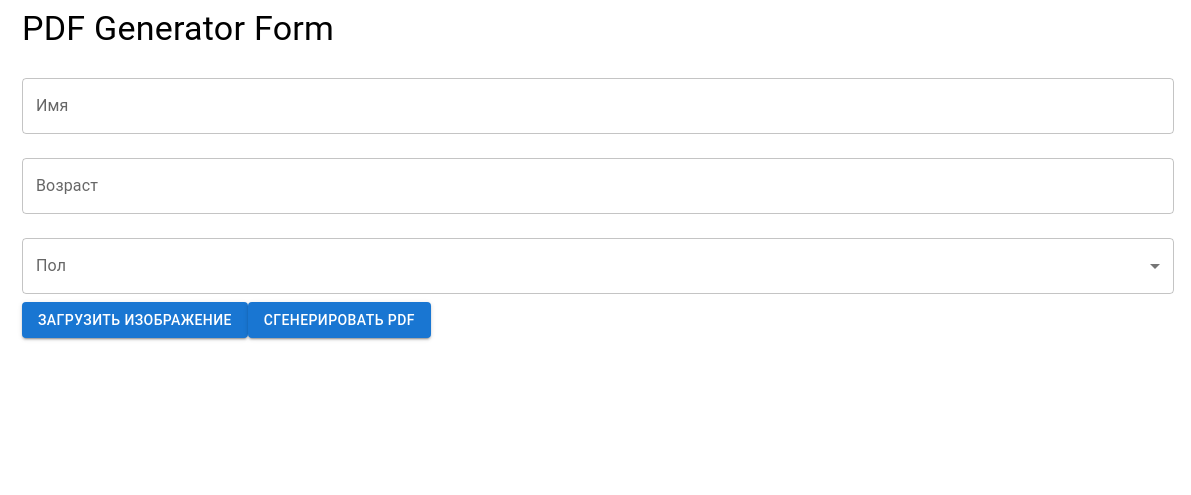
Test case: GeneratePdfPage › shows error messages when form fields are empty
The image size is (1191, 495).
Click the button "Сгенерировать PDF": (339, 320) [248,302,431,338]
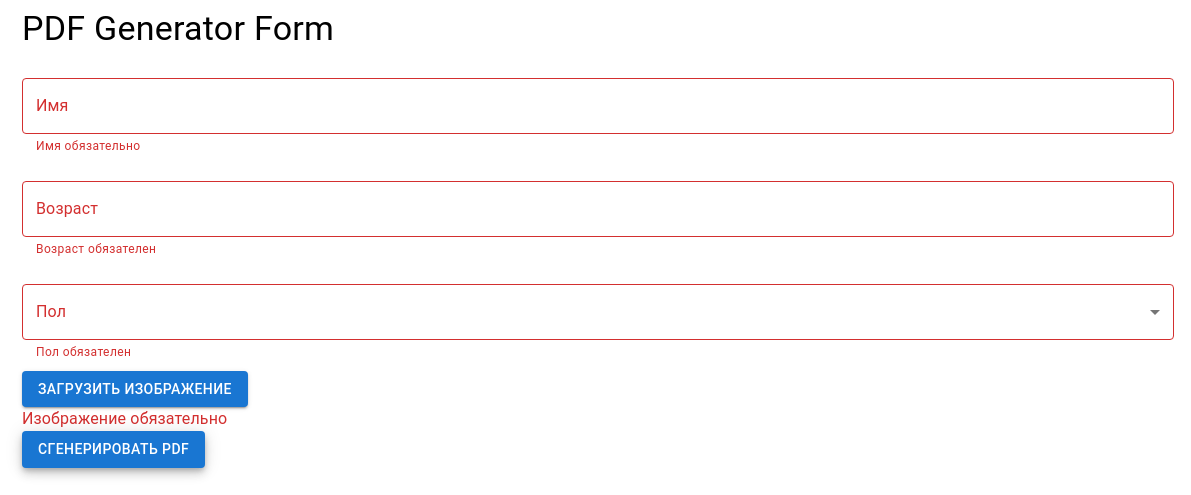
Check: the text "Имя обязательно" is shown, box [36,139,140,153]
Check: the text "Возраст обязателен" is shown, box [36,242,156,256]
Check: the text "Пол обязателен" is shown, box [36,345,131,359]
